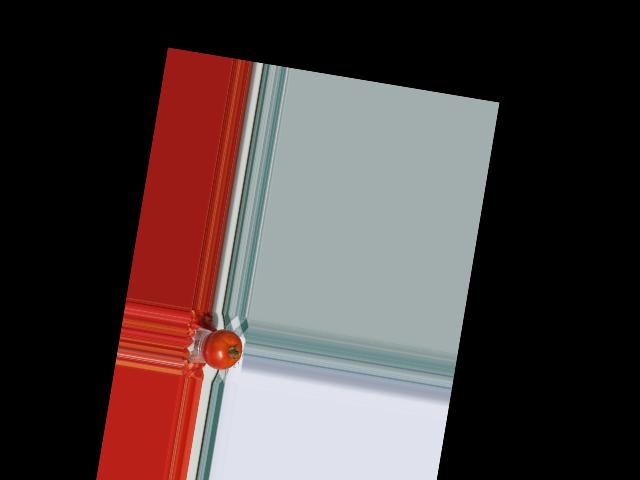tomato: (199, 326, 245, 373)
